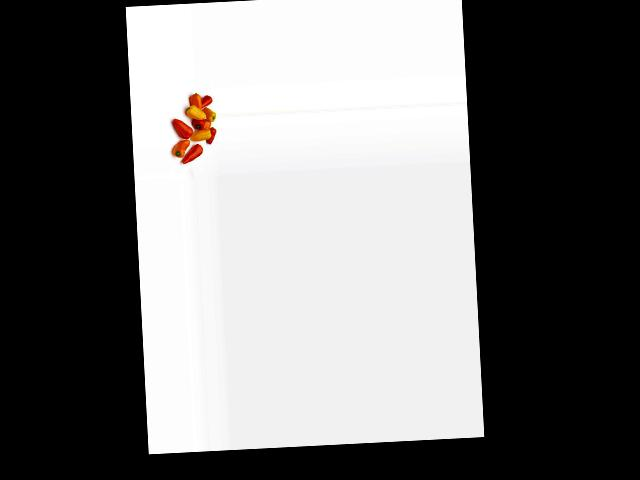bell_pepper: (207, 126, 217, 146)
